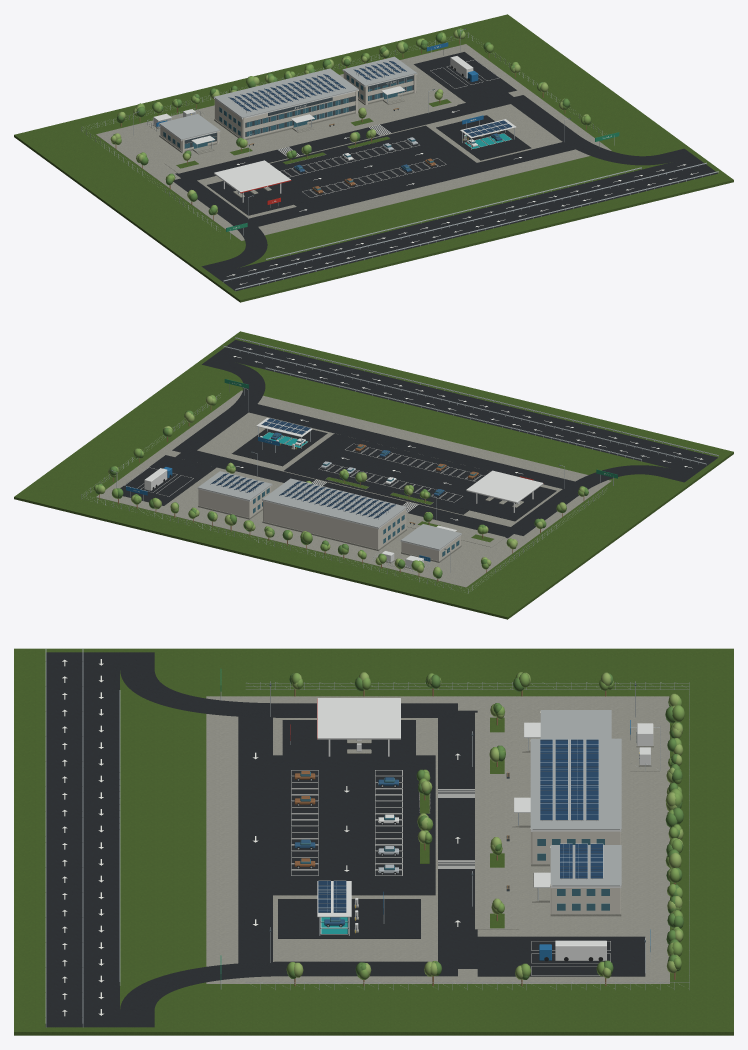
File: service_medium.glb
3 renders of one model, top to bottom at view 1: azimuth 30°, elevation 25°; view 2: azimuth 150°, elevation 25°; view 3: azimuth 270°, elevation 25°, orthographic. The views are drawn at different scales.
Visible parts, largest first — view 1: static_lawn, static_asphalt_real, static_concrete_paving, static_galvanized_steel, static_roof_membrane, static_white_aluminum, static_warm_limestone, static_road_marking, static_architectural_glass, static_leaf_0, static_leaf_2, static_anthracite_frame (+1 smaller); view 2: static_lawn, static_asphalt_real, static_concrete_paving, static_roof_membrane, static_warm_limestone, static_galvanized_steel, static_white_aluminum, static_road_marking, static_leaf_1, static_leaf_2, static_leaf_0, static_architectural_glass; view 3: static_lawn, static_asphalt_real, static_concrete_paving, static_roof_membrane, static_galvanized_steel, static_white_aluminum, static_road_marking, static_leaf_2, static_leaf_1, static_warm_limestone, static_leaf_0, static_architectural_glass (+1 smaller).
Boxes of the visible parts, bbox=[...] form: static_lawn: bbox=[14, 14, 733, 302]; static_asphalt_real: bbox=[173, 52, 717, 290]; static_concrete_paving: bbox=[96, 44, 611, 240]; static_galvanized_steel: bbox=[81, 29, 718, 291]; static_roof_membrane: bbox=[159, 56, 416, 139]; static_white_aluminum: bbox=[159, 56, 516, 202]; static_warm_limestone: bbox=[160, 72, 416, 152]; static_road_marking: bbox=[227, 59, 698, 284]; static_architectural_glass: bbox=[163, 74, 499, 190]; static_leaf_0: bbox=[113, 28, 591, 215]; static_leaf_2: bbox=[110, 30, 588, 215]; static_anthracite_frame: bbox=[137, 28, 570, 196]; static_lawn: bbox=[14, 331, 733, 619]; static_asphalt_real: bbox=[120, 339, 718, 538]; static_concrete_paving: bbox=[96, 390, 611, 587]; static_roof_membrane: bbox=[197, 471, 461, 549]; static_warm_limestone: bbox=[198, 486, 460, 560]; static_galvanized_steel: bbox=[81, 337, 718, 593]; static_white_aluminum: bbox=[144, 418, 543, 551]; static_road_marking: bbox=[124, 347, 702, 520]; static_leaf_1: bbox=[93, 395, 585, 577]; static_leaf_2: bbox=[100, 396, 584, 573]; static_leaf_0: bbox=[95, 397, 588, 578]; static_architectural_glass: bbox=[253, 433, 476, 556]; static_lawn: bbox=[14, 648, 733, 1035]; static_asphalt_real: bbox=[46, 652, 645, 1027]; static_concrete_paving: bbox=[206, 696, 669, 983]; static_roof_membrane: bbox=[530, 710, 621, 886]; static_galvanized_steel: bbox=[45, 648, 689, 1027]; static_white_aluminum: bbox=[317, 698, 621, 960]; static_road_marking: bbox=[62, 659, 610, 1016]; static_leaf_2: bbox=[292, 672, 683, 979]; static_leaf_1: bbox=[286, 673, 684, 979]; static_warm_limestone: bbox=[530, 711, 620, 915]; static_leaf_0: bbox=[288, 673, 683, 979]; static_architectural_glass: bbox=[300, 771, 609, 922].
Size of the model in its own units: 184 by 10.35 by 146.
28 materials, 3 textured.
